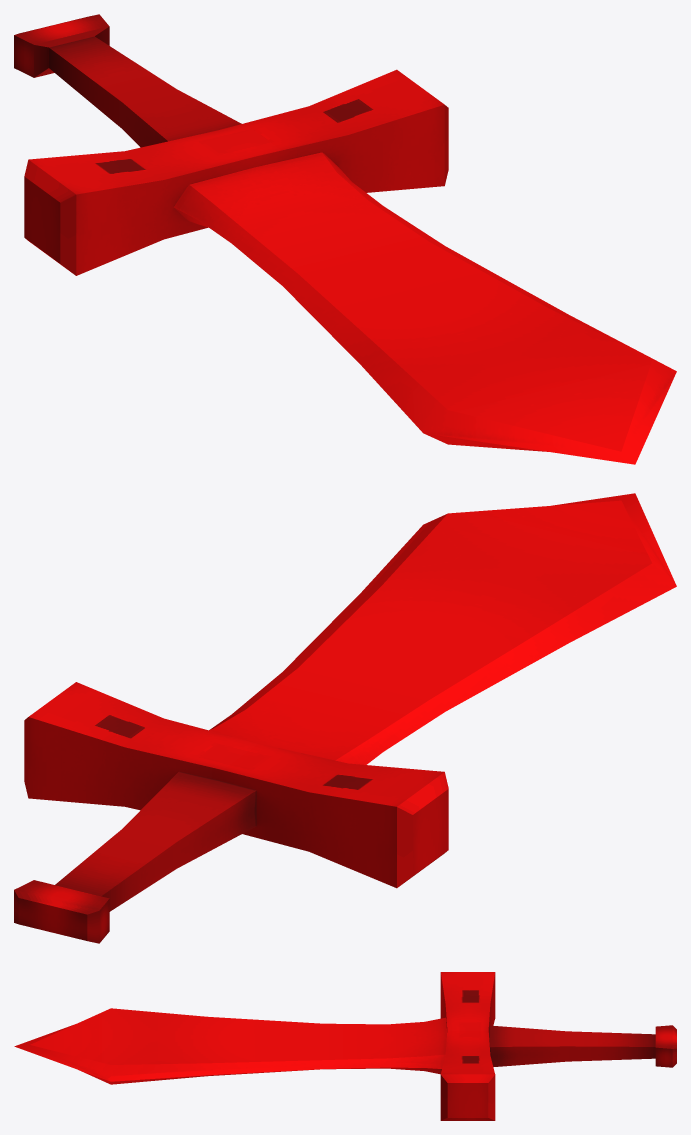
File: SM_SwordToy.glb
3 views of the same model, one above another, from view 1: azimuth 30°, elevation 25°; view 2: azimuth 150°, elevation 25°; view 3: azimuth 270°, elevation 25° (orthographic). The views are drawn at different scales.
Visible parts, largest first — view 1: SM_SwordToy; view 2: SM_SwordToy; view 3: SM_SwordToy.
Part boxes in pixels (x1,y1,x2,y2): SM_SwordToy: (14, 14, 676, 464); SM_SwordToy: (14, 493, 676, 943); SM_SwordToy: (14, 972, 676, 1120).
Bounding box in the file's own units: 0.3247 × 0.0651 × 0.8431.
1 material, 1 textured.
